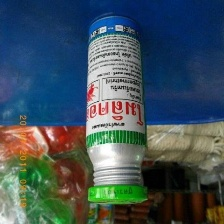insecticide: (82, 10, 152, 209)
